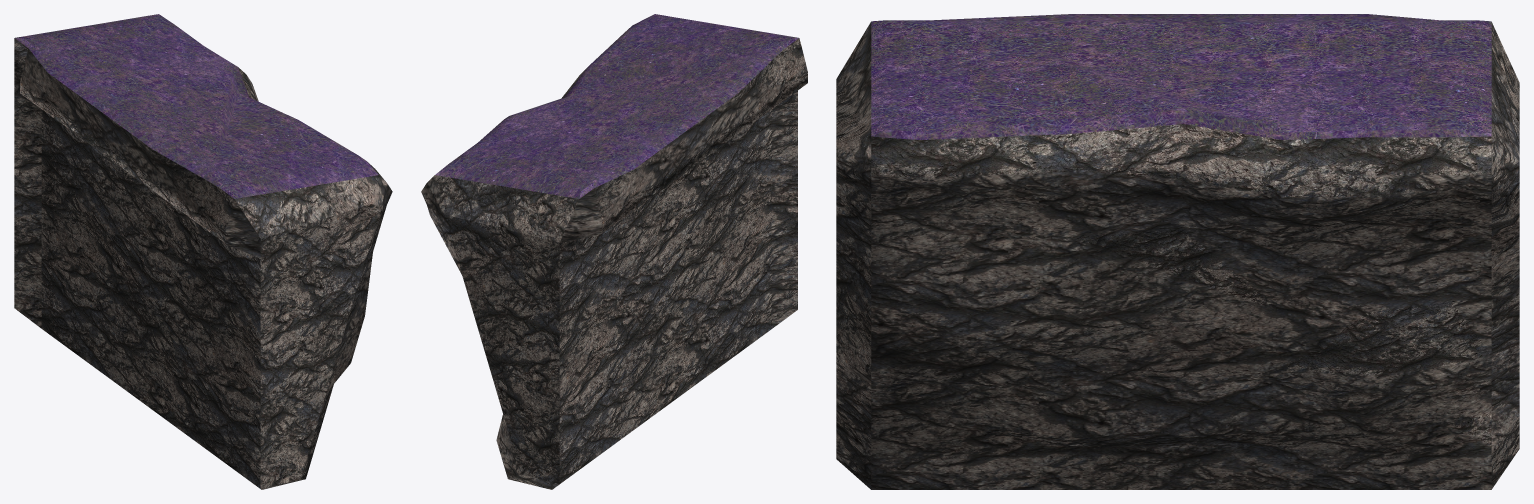
The model's file is AlienCliffRockLong.fbx.
3 renders of one model, left to right at view 1: azimuth 30°, elevation 25°; view 2: azimuth 150°, elevation 25°; view 3: azimuth 270°, elevation 25°, orthographic. The views are drawn at different scales.
Parts seen in each view (by area): view 1: pCube1; view 2: pCube1; view 3: pCube1.
Part boxes in pixels (bbox=[...]): pCube1: bbox=[14, 14, 392, 489]; pCube1: bbox=[421, 14, 807, 489]; pCube1: bbox=[836, 14, 1519, 489].
Size of the model in its own units: 8.09 by 13.08 by 19.05.
Materials: 2 (2 with a texture image).
